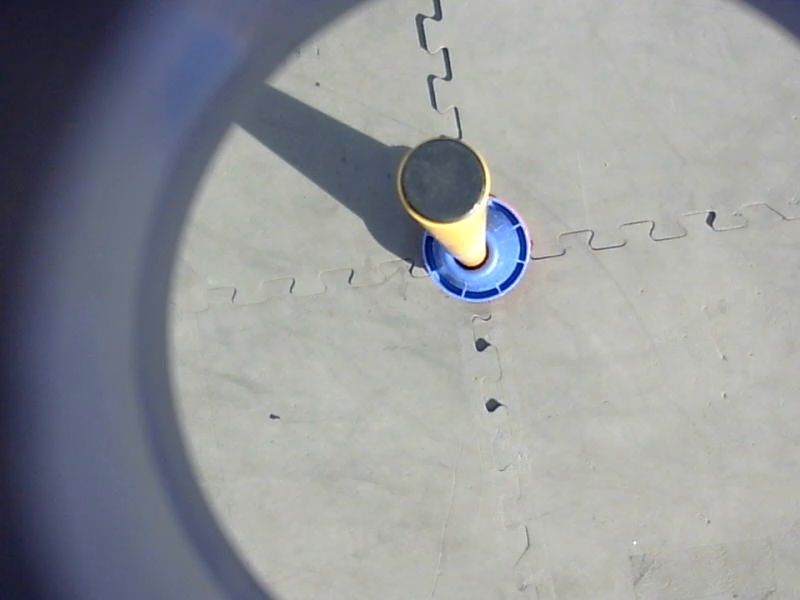tip: (391, 130, 498, 232)
